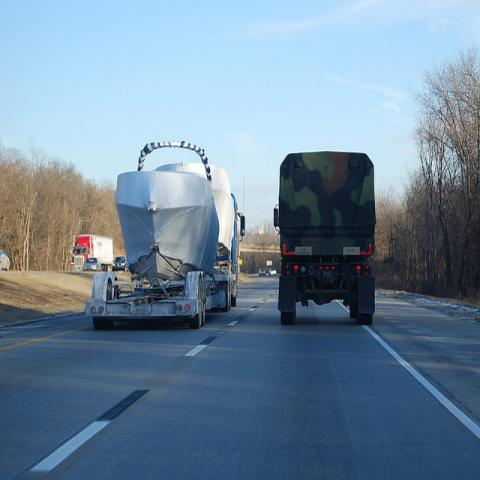car: (112, 256, 128, 272), (83, 258, 101, 272), (0, 252, 10, 272), (258, 269, 266, 276), (269, 268, 276, 276)
truck: (85, 142, 245, 333), (274, 153, 376, 328), (70, 234, 113, 272)
